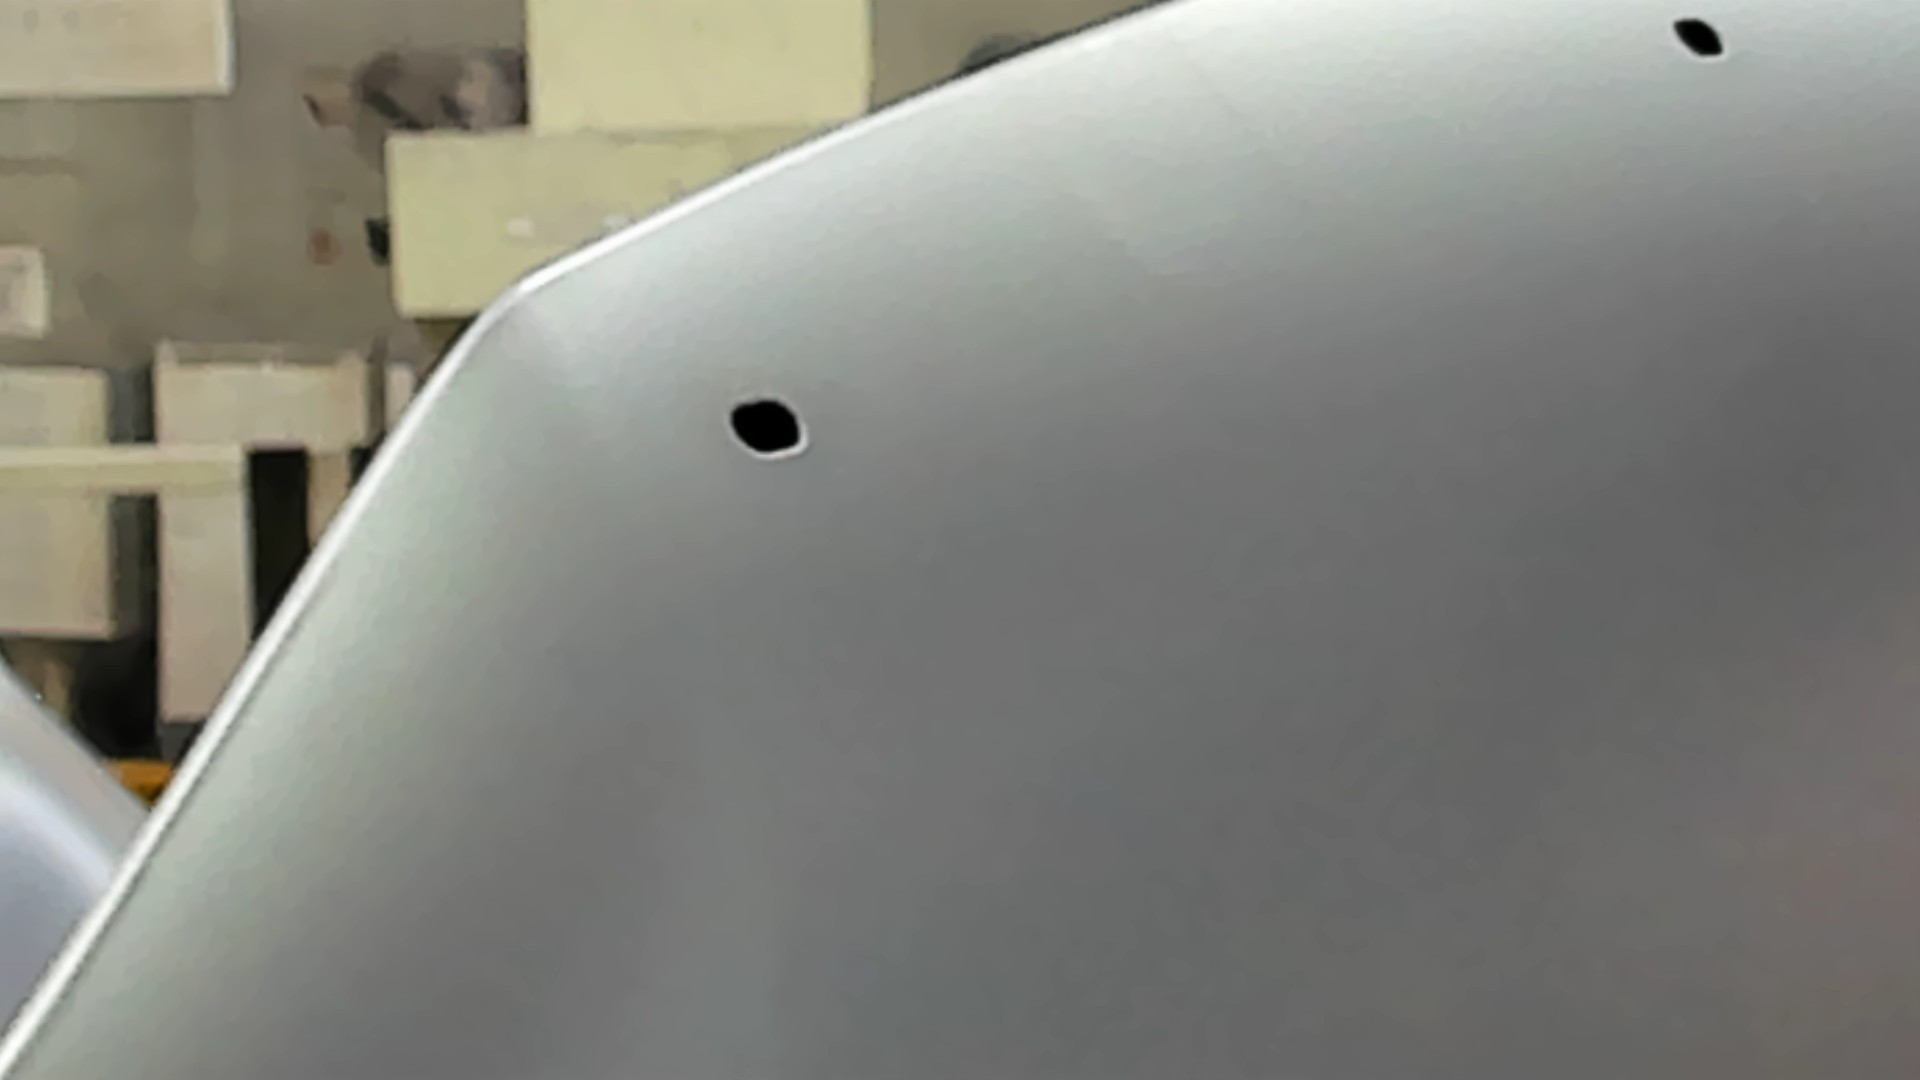amorfo: (728, 396, 806, 460), (1668, 11, 1731, 69)
